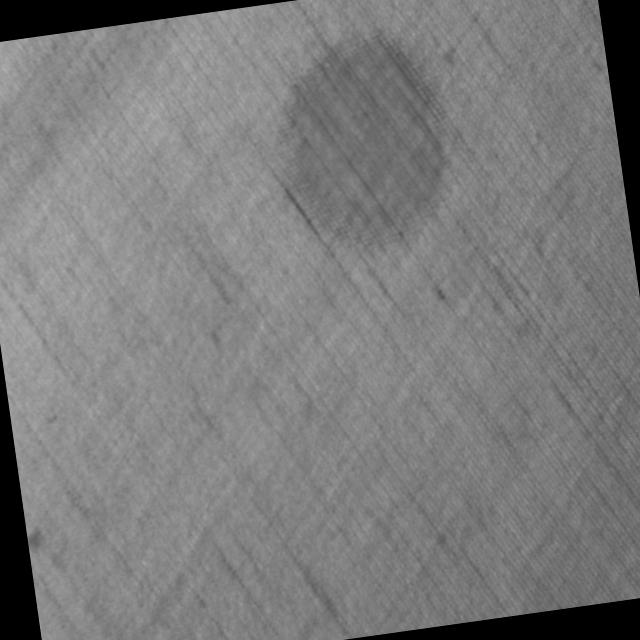oil spot: (255, 15, 466, 258)
